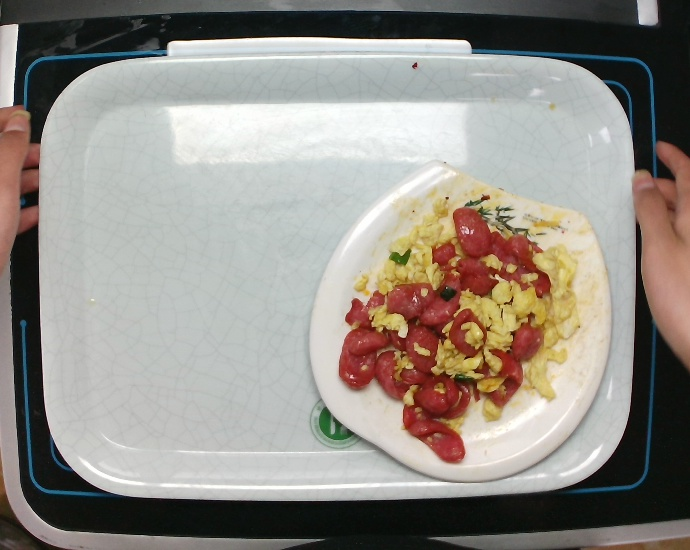JYsf-Mian_Pan: (302, 158, 618, 491)
